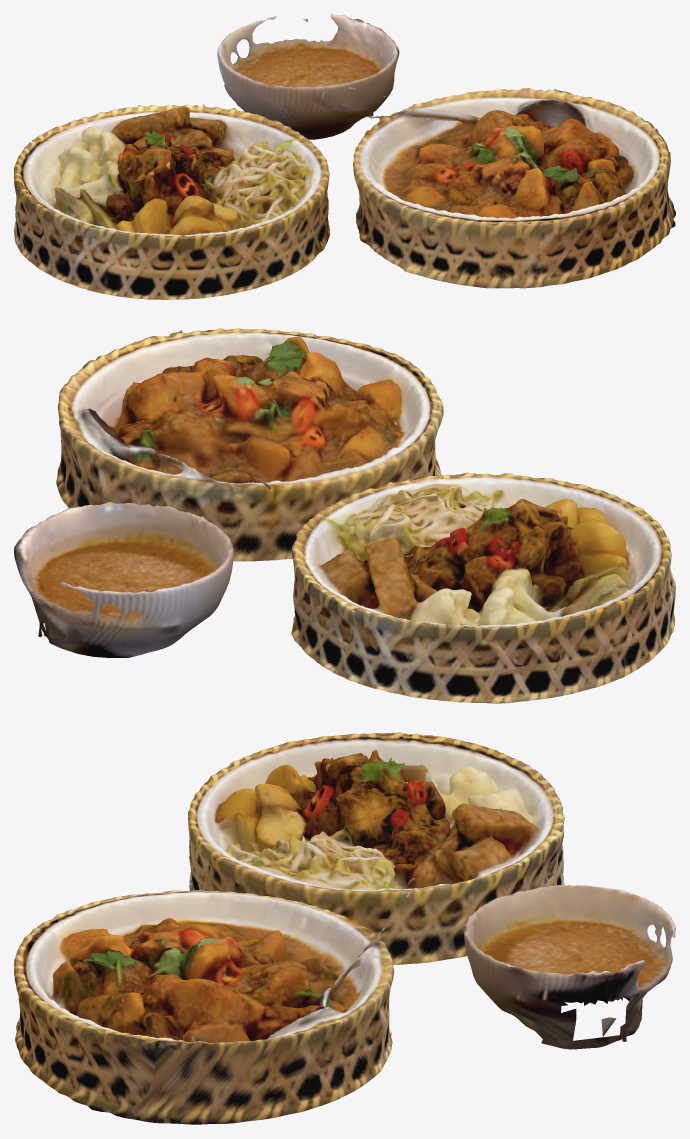
Rendered from vegan_fusion_satay__masak_merah_scaniverse.glb.
The picture shows the model from 3 angles, top to bottom: view 1: azimuth 30°, elevation 25°; view 2: azimuth 150°, elevation 25°; view 3: azimuth 270°, elevation 25°; orthographic projection. The views are drawn at different scales.
Parts seen in each view (by area): view 1: mesh_main_0 (×3); view 2: mesh_main_0 (×3); view 3: mesh_main_0 (×3).
Boxes of the visible parts, left/top/right/bottom form: mesh_main_0 (×3): left=14, top=14, right=675, bottom=299; mesh_main_0 (×3): left=14, top=328, right=675, bottom=703; mesh_main_0 (×3): left=14, top=732, right=675, bottom=1124.
Size of the model in its own units: 0.4207 by 0.0742 by 0.3692.
Materials: 1 (1 with a texture image).
